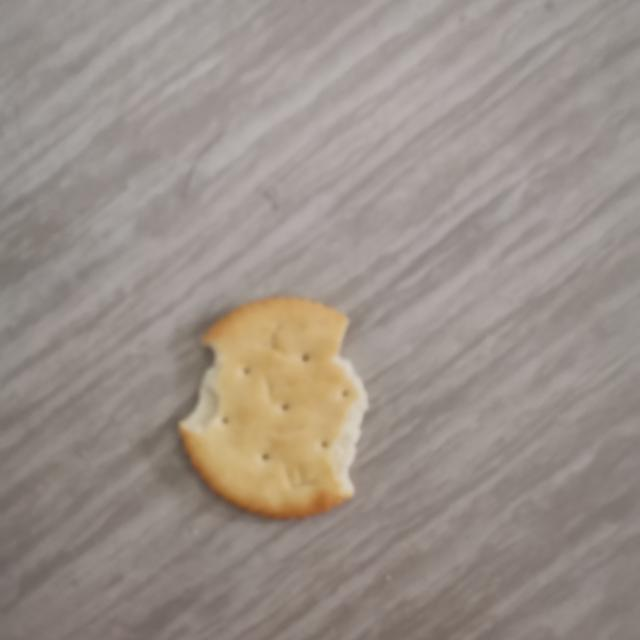Broken: (177, 295, 369, 520)
